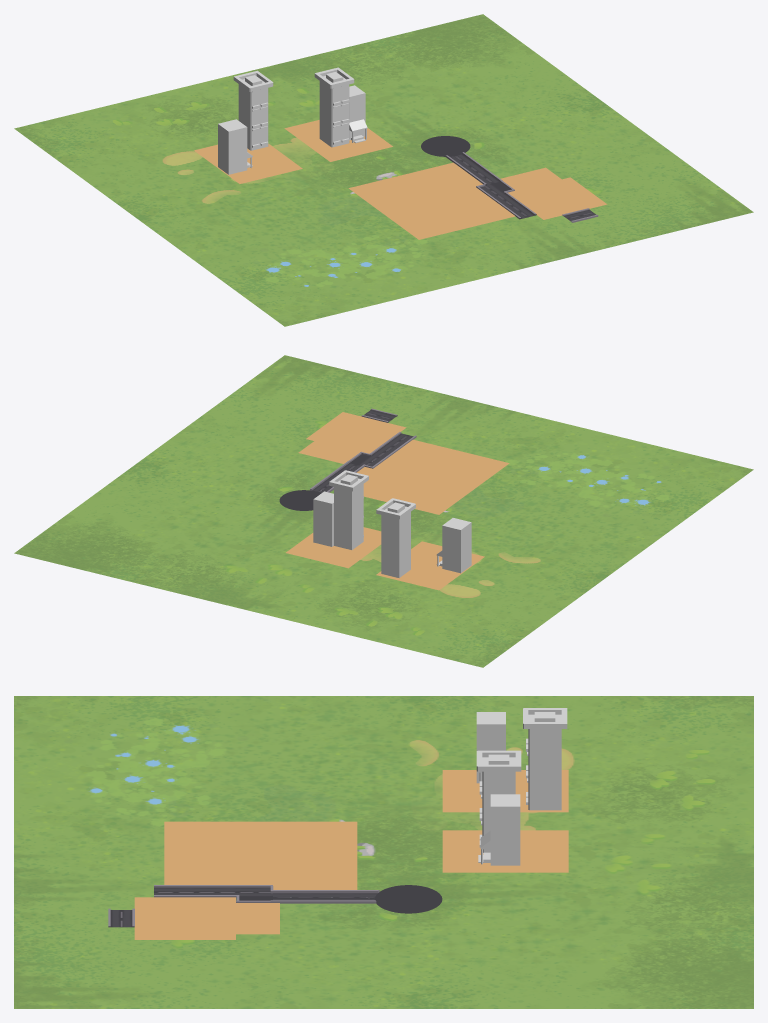
The model's file is main scene.fbx.
The picture shows the model from 3 angles, top to bottom: view 1: azimuth 30°, elevation 25°; view 2: azimuth 150°, elevation 25°; view 3: azimuth 270°, elevation 25°; orthographic projection. The views are drawn at different scales.
Visible parts, largest first — view 1: Plane.001, Plane.002, Plane, Cube, Plane.006, Plane.004, Cube.004, Cube.006, Plane.003, Cube.003, Circle, Cube.001 (+2 smaller); view 2: Plane.001, Plane.002, Plane, Cube, Cube.004, Plane.006, Plane.004, Cube.006, Cube.003, Plane.003, Circle; view 3: Plane.001, Plane.002, Plane, Plane.004, Cube.004, Plane.006, Cube.003, Cube, Plane.003, Circle, Plane.012, Cube.006.
Part boxes in pixels (bbox=[...]): Plane.001: bbox=[14, 14, 753, 326]; Plane.002: bbox=[348, 162, 515, 239]; Plane: bbox=[500, 167, 607, 219]; Cube: bbox=[314, 67, 354, 147]; Plane.006: bbox=[194, 143, 302, 183]; Plane.004: bbox=[284, 120, 392, 161]; Cube.004: bbox=[233, 70, 273, 150]; Cube.006: bbox=[218, 119, 252, 174]; Plane.003: bbox=[476, 180, 536, 219]; Cube.003: bbox=[349, 85, 367, 143]; Circle: bbox=[421, 136, 470, 156]; Cube.001: bbox=[333, 84, 349, 144]; Plane.001: bbox=[14, 355, 753, 667]; Plane.002: bbox=[357, 439, 509, 514]; Plane: bbox=[298, 412, 406, 463]; Cube: bbox=[329, 470, 368, 549]; Cube.004: bbox=[376, 498, 415, 577]; Plane.006: bbox=[376, 541, 484, 590]; Plane.004: bbox=[286, 527, 381, 568]; Cube.006: bbox=[436, 518, 471, 573]; Cube.003: bbox=[313, 491, 333, 546]; Plane.003: bbox=[349, 432, 416, 468]; Circle: bbox=[279, 490, 321, 510]; Plane.001: bbox=[14, 696, 753, 1008]; Plane.002: bbox=[164, 821, 357, 889]; Plane: bbox=[134, 897, 279, 939]; Plane.004: bbox=[442, 830, 568, 872]; Cube.004: bbox=[523, 708, 567, 810]; Plane.006: bbox=[442, 770, 568, 812]; Cube.003: bbox=[478, 794, 520, 865]; Cube: bbox=[476, 750, 521, 852]; Plane.003: bbox=[154, 885, 273, 902]; Circle: bbox=[374, 885, 442, 913]; Plane.012: bbox=[270, 890, 379, 903]; Cube.006: bbox=[476, 712, 505, 783].
Bounding box in the file's own units: 22.49 × 3.02 × 22.49.
